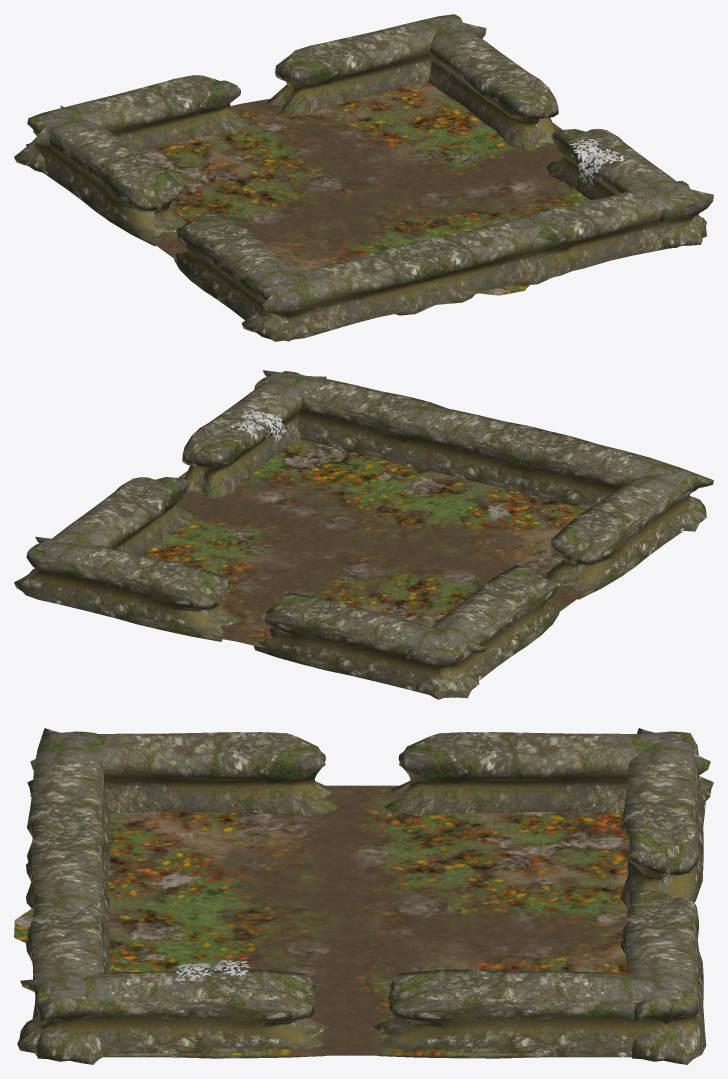
Rendered from Exterior_3_Puertas_Grande.fbx.
3 renders of one model, top to bottom at view 1: azimuth 30°, elevation 25°; view 2: azimuth 150°, elevation 25°; view 3: azimuth 270°, elevation 25°, orthographic. The views are drawn at different scales.
Parts seen in each view (by area): view 1: polySurface97; view 2: polySurface97; view 3: polySurface97.
Boxes of the visible parts, left/top/right/bottom form: polySurface97: left=14, top=14, right=713, bottom=341; polySurface97: left=14, top=370, right=713, bottom=699; polySurface97: left=14, top=728, right=713, bottom=1064.
Size of the model in its own units: 503 by 57.98 by 513.
